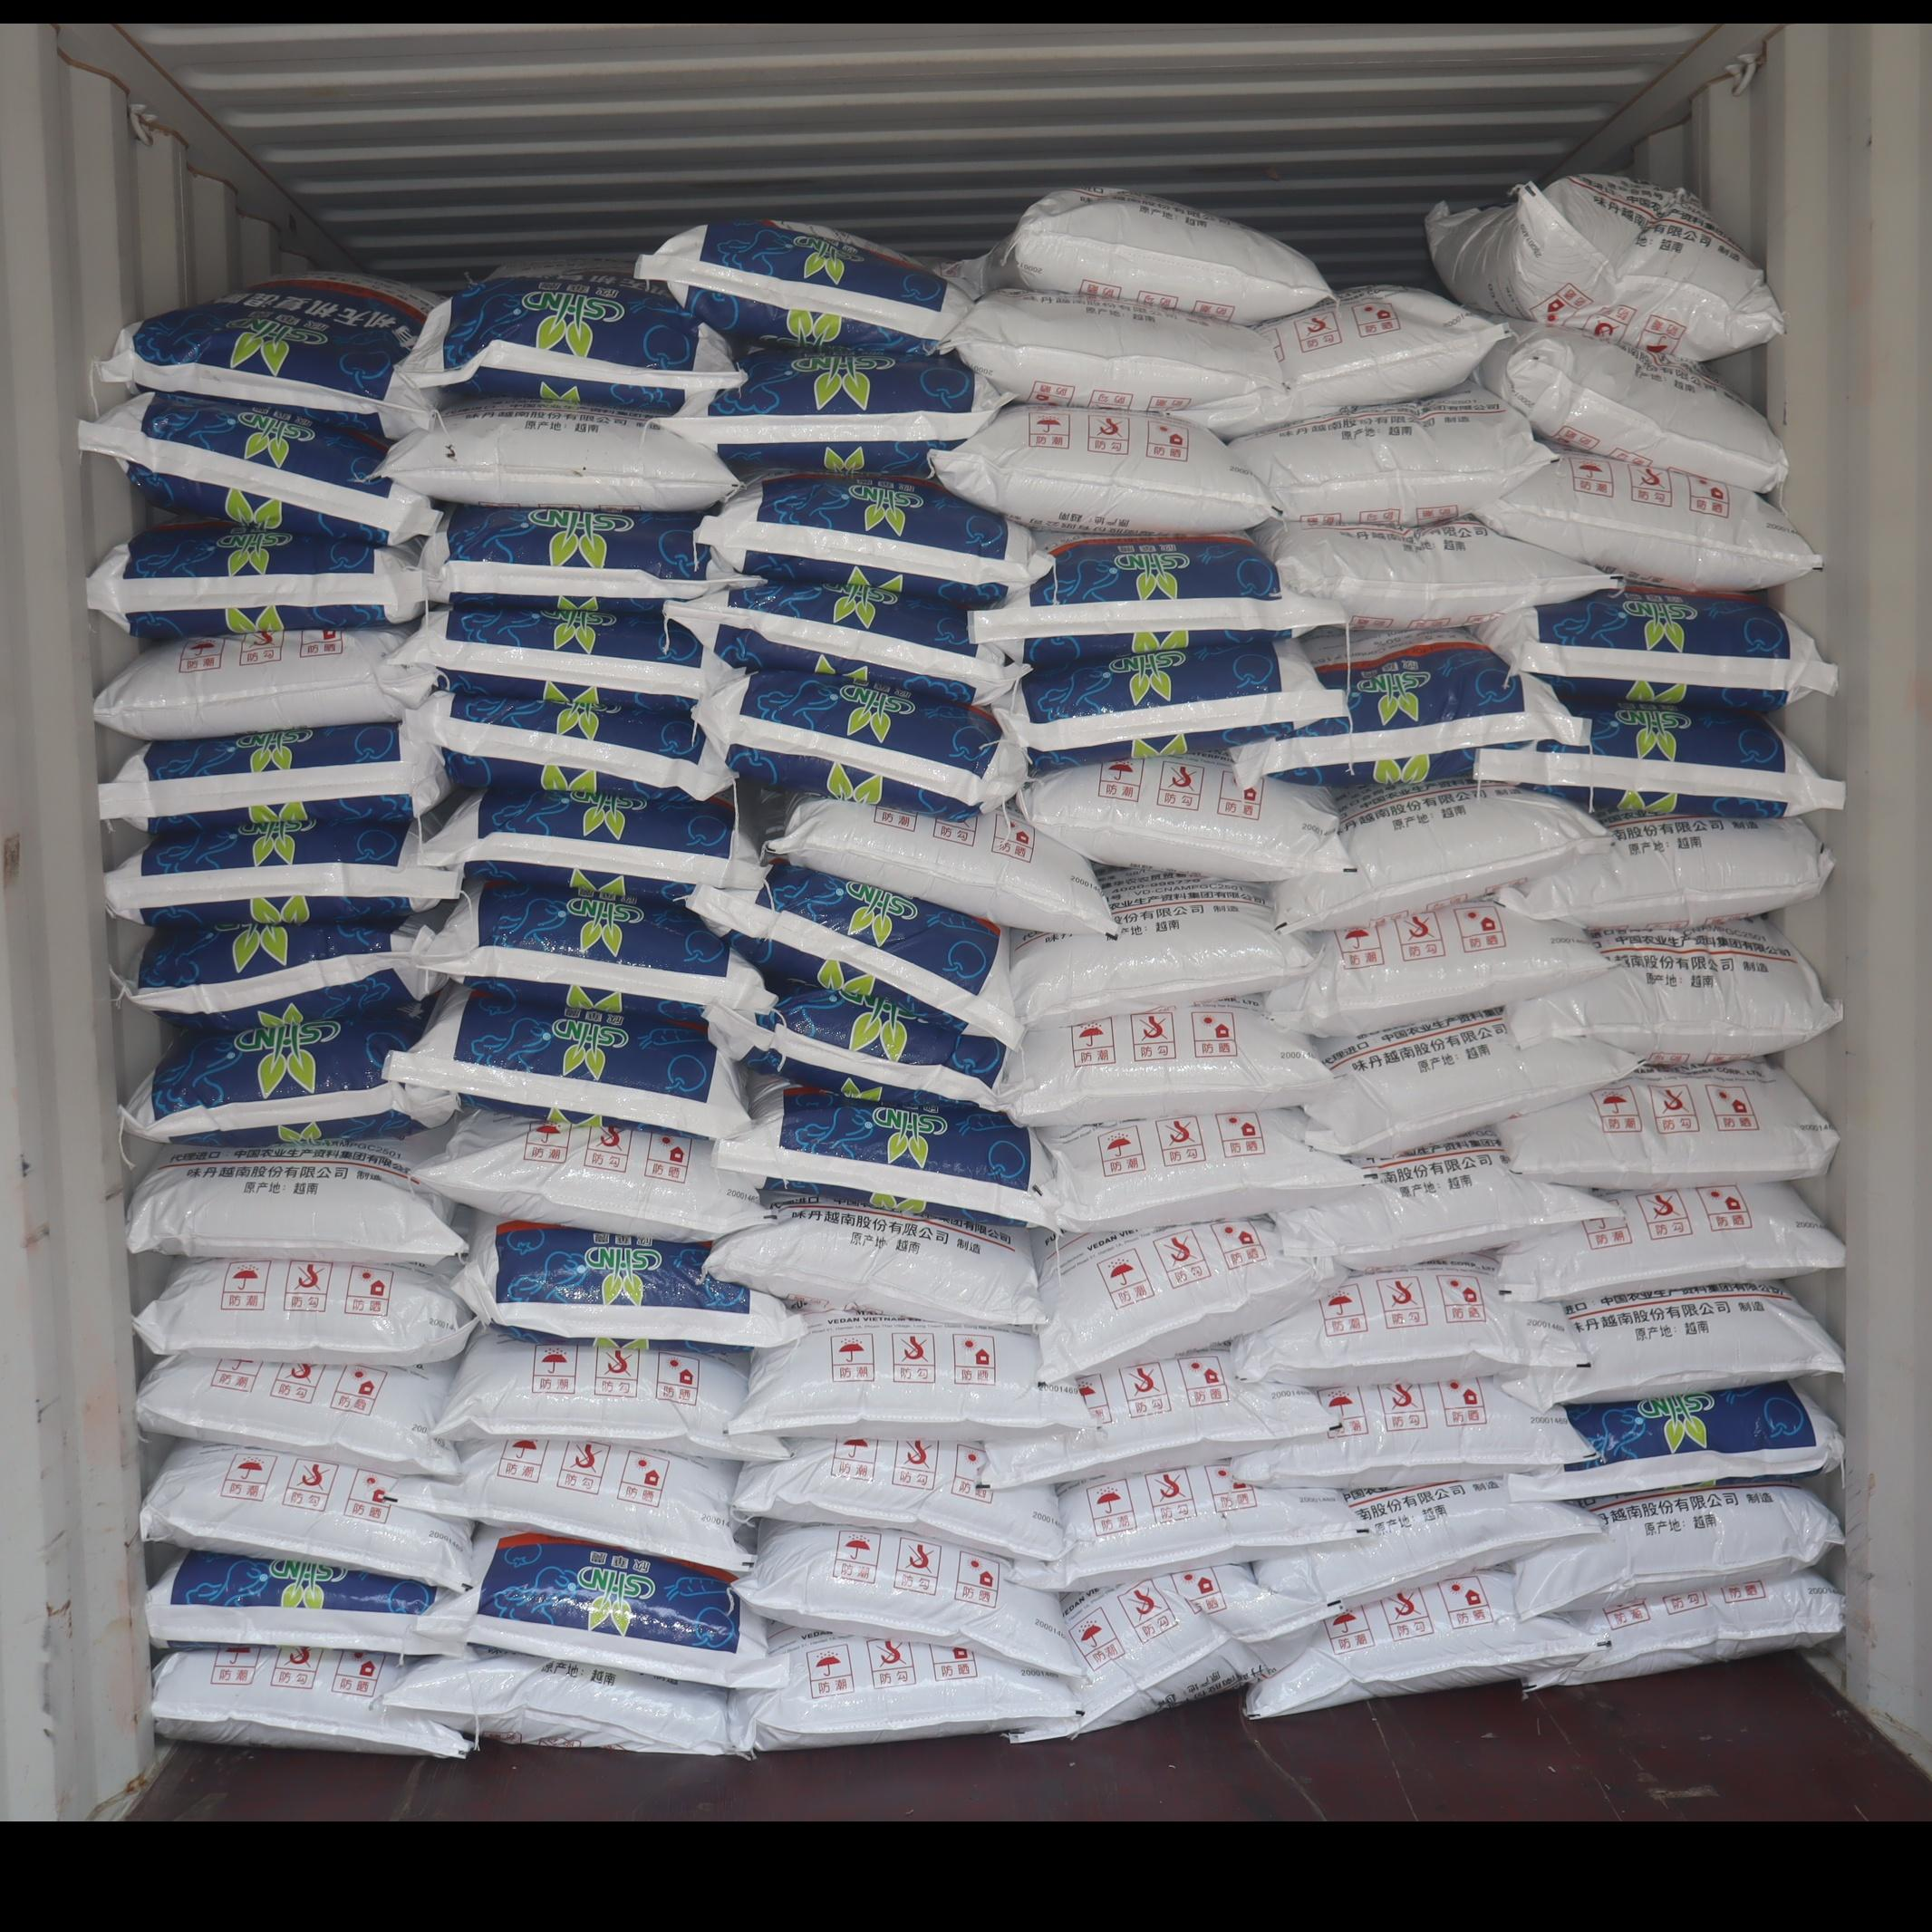sack: (1426, 175, 1782, 361), (686, 865, 1021, 1049), (1014, 1562, 1336, 1741), (418, 1532, 784, 1688), (97, 272, 435, 437), (386, 985, 748, 1138), (1237, 628, 1587, 786), (78, 391, 437, 543), (1479, 318, 1787, 492), (738, 1525, 1083, 1675), (1276, 778, 1608, 931), (1244, 1573, 1592, 1718), (403, 264, 741, 412), (1180, 287, 1506, 439), (715, 1086, 1058, 1230), (1306, 1008, 1640, 1155), (428, 885, 775, 1026), (1037, 1215, 1332, 1380), (694, 672, 1024, 819), (989, 1348, 1330, 1490), (1507, 920, 1840, 1065), (1008, 867, 1311, 1026), (971, 536, 1343, 665), (768, 796, 1111, 934), (697, 472, 1049, 607), (977, 189, 1329, 324), (1274, 1129, 1619, 1265), (432, 1329, 786, 1461), (1267, 899, 1610, 1035), (1228, 382, 1553, 525), (1481, 453, 1822, 589), (122, 1007, 455, 1146), (400, 1437, 750, 1569), (142, 1444, 469, 1585), (1253, 1477, 1601, 1610), (455, 1217, 801, 1348), (729, 1315, 1090, 1440), (419, 1111, 768, 1240), (994, 996, 1338, 1127), (1479, 584, 1836, 709), (704, 1196, 1046, 1327), (1237, 1258, 1585, 1385), (671, 345, 1008, 476), (635, 219, 971, 350), (1008, 642, 1345, 773), (931, 405, 1270, 534), (1499, 1062, 1838, 1191), (667, 580, 1016, 704), (1024, 1463, 1368, 1589), (1497, 1283, 1842, 1407), (1476, 701, 1844, 816), (1516, 1483, 1842, 1612), (1026, 754, 1346, 883), (943, 290, 1281, 412), (732, 1437, 1063, 1560), (127, 1141, 467, 1261), (1040, 1109, 1369, 1233), (1500, 1182, 1844, 1300), (734, 1631, 1074, 1750), (136, 1353, 458, 1477), (379, 398, 736, 510), (87, 522, 425, 639), (1502, 809, 1833, 927), (1256, 518, 1614, 628), (1235, 1378, 1583, 1490), (104, 819, 460, 927), (421, 789, 764, 901), (405, 692, 729, 809), (1518, 1382, 1842, 1499), (99, 725, 451, 832), (136, 1258, 476, 1366), (389, 1651, 740, 1755), (124, 918, 444, 1031), (1532, 1571, 1842, 1686), (154, 1645, 469, 1757), (391, 607, 722, 711), (96, 628, 403, 738), (421, 506, 755, 607), (711, 993, 1007, 1106), (150, 1552, 442, 1652), (1099, 1357, 1102, 1364)
